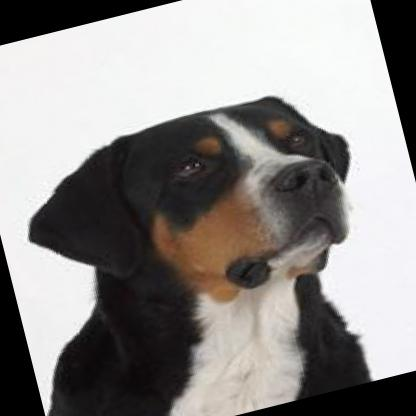Greater_Swiss_Mountain_dog: (0, 76, 403, 416)
